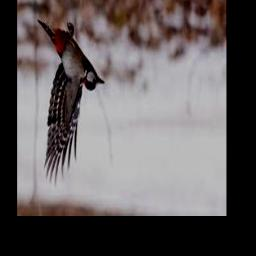Woodpecker: (38, 18, 105, 187)
